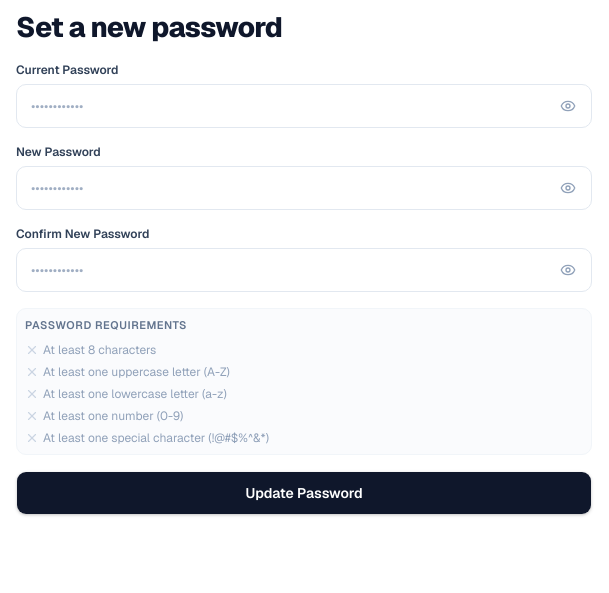
Test: ChangePasswordForm › shows the server error when the service returns a failure
Type "OldPassword123!" into the password field labelled "Current Password" at point(304, 106), box x1=16 y1=84 x2=592 y2=128
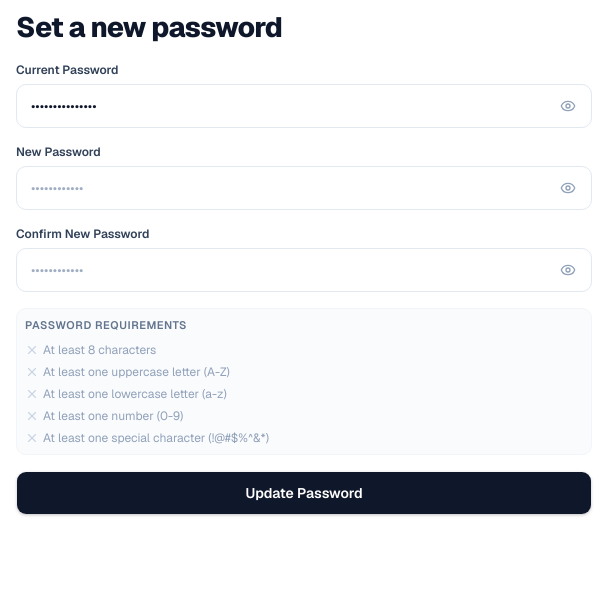
Type "NewPassword123!" into the password field labelled "New Password" at point(304, 188), box x1=16 y1=166 x2=592 y2=210
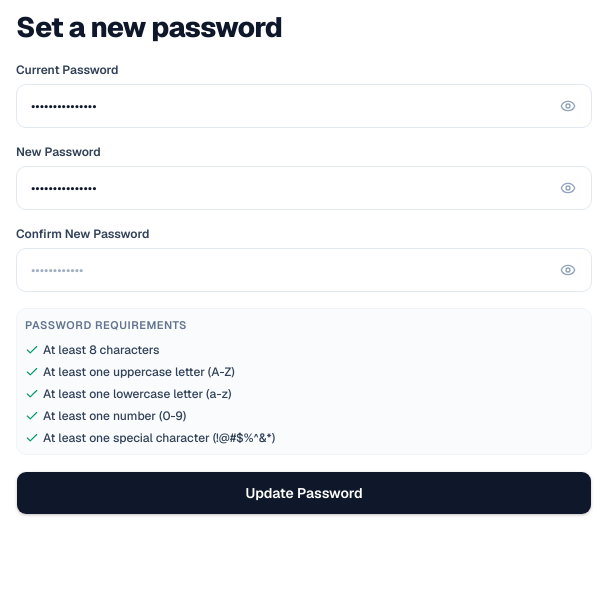
Type "NewPassword123!" into the password field labelled "Confirm New Password" at point(304, 270), box x1=16 y1=248 x2=592 y2=292
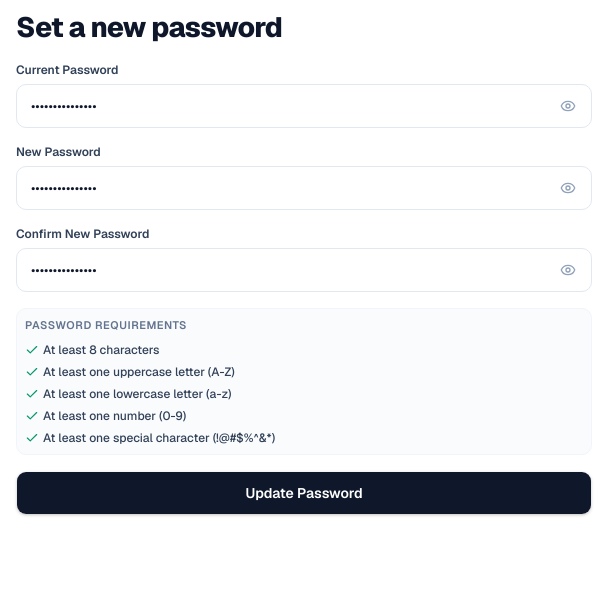
Click the button "Update Password" at point(304, 493), box x1=16 y1=471 x2=592 y2=515
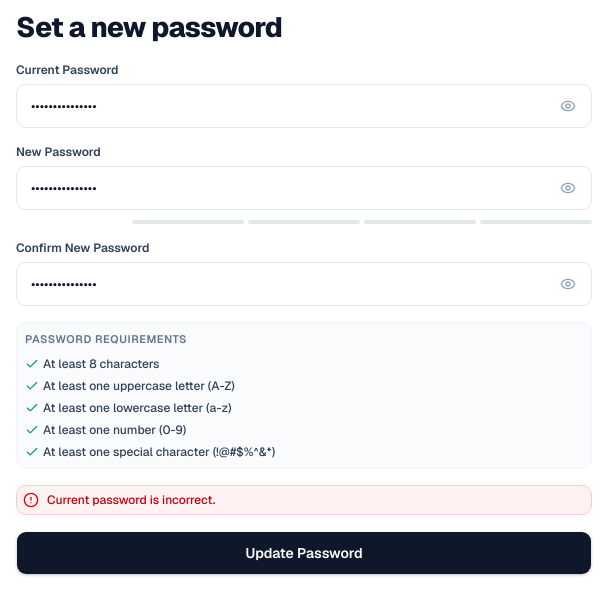
Now the message reads "Current password is incorrect.", box x1=47 y1=492 x2=215 y2=508
